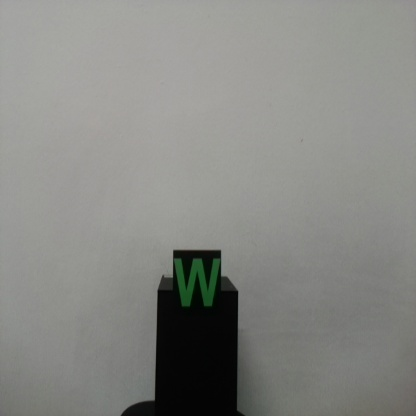id_12: (174, 251, 222, 320)
